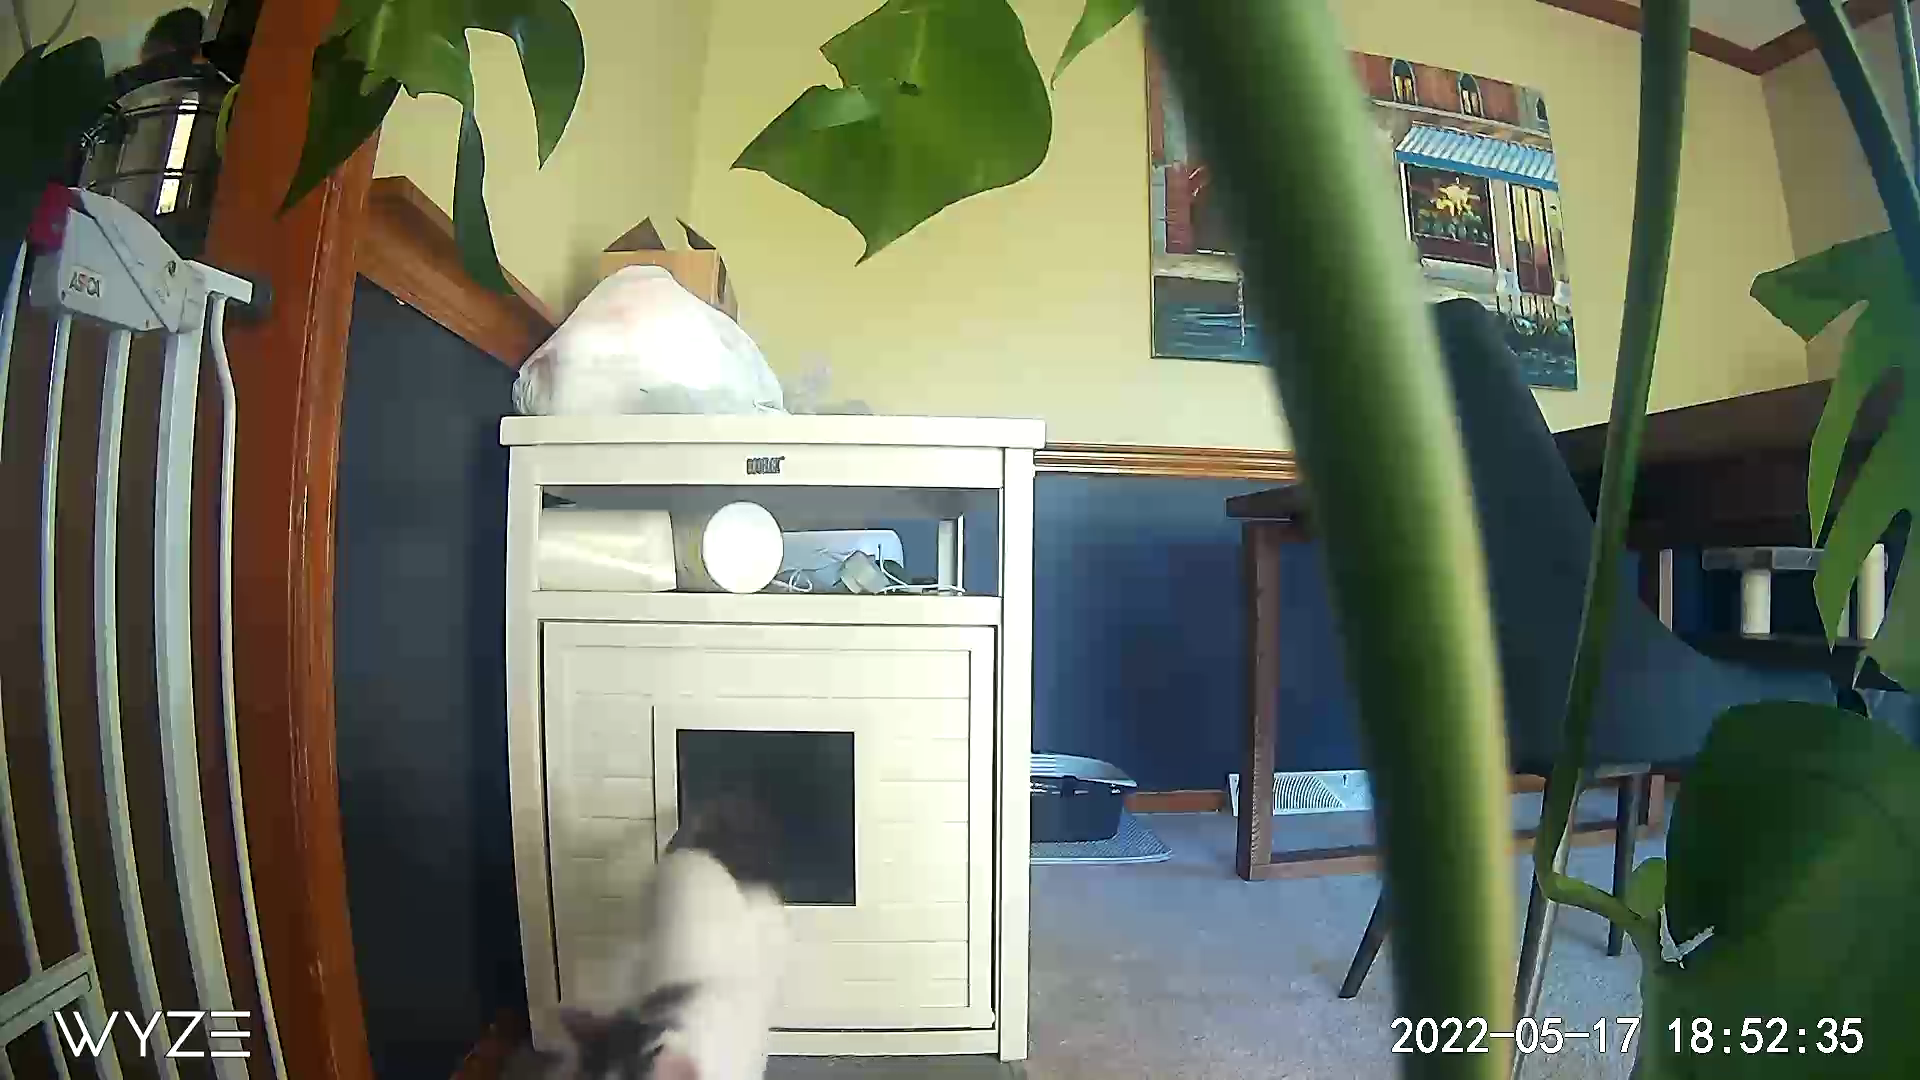maoxin: (588, 793, 783, 1080)
